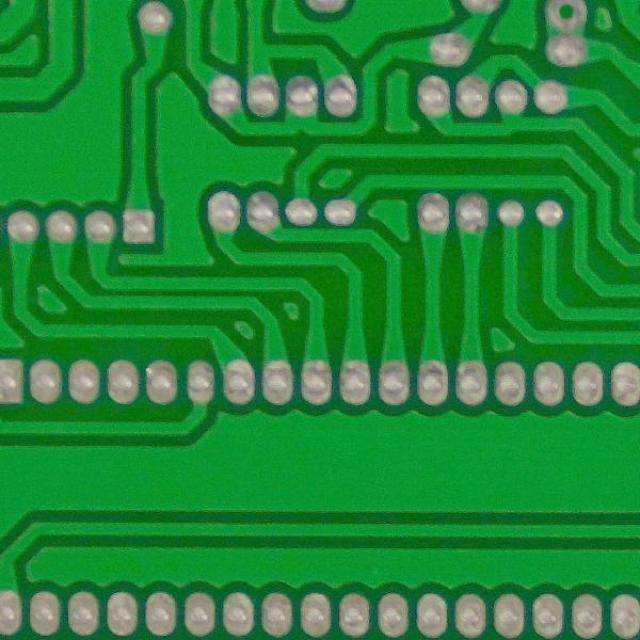Missing_Hole: (540, 0, 592, 32)
